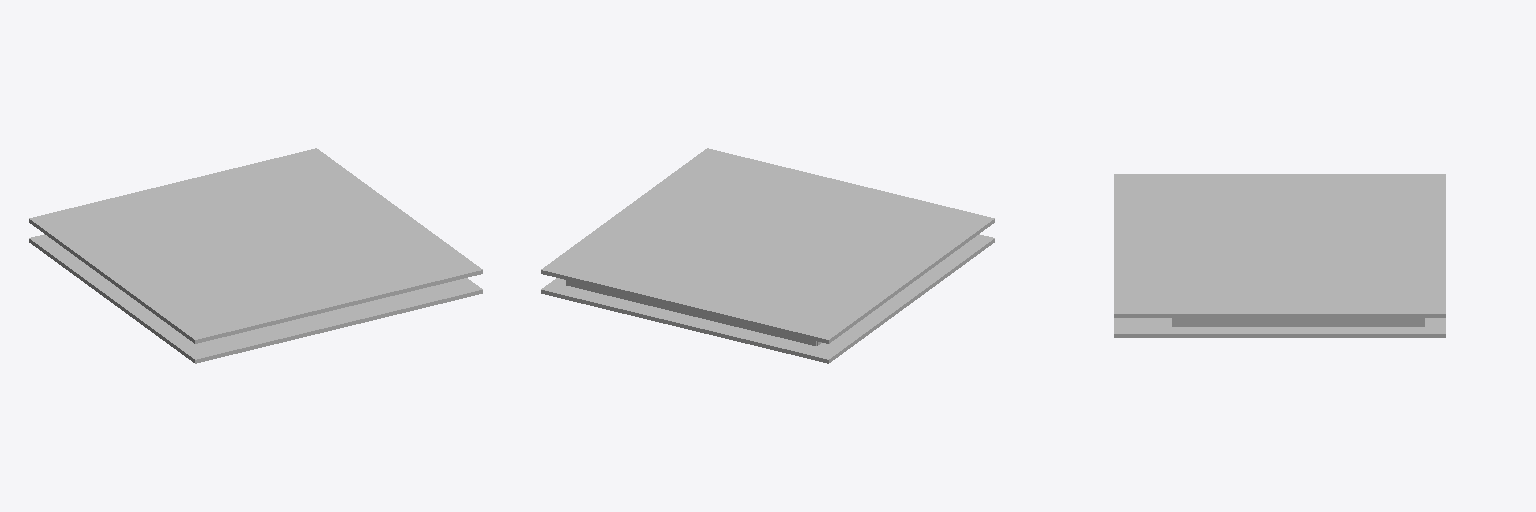
Rendered from Casa.obj.
3 renders of one model, left to right at view 1: azimuth 30°, elevation 25°; view 2: azimuth 150°, elevation 25°; view 3: azimuth 270°, elevation 25°, orthographic.
Parts seen in each view (by area): view 1: Plane.001, Plane; view 2: Plane.001, Plane, Cube.034_Cube.035; view 3: Plane.001, Plane, Cube.017_Cube.018.
Boxes of the visible parts, x1=… form: Plane.001: x1=29, y1=148, x2=482, y2=343; Plane: x1=29, y1=234, x2=482, y2=363; Plane.001: x1=541, y1=148, x2=994, y2=343; Plane: x1=541, y1=234, x2=994, y2=363; Cube.034_Cube.035: x1=566, y1=280, x2=816, y2=345; Plane.001: x1=1114, y1=174, x2=1445, y2=317; Plane: x1=1114, y1=318, x2=1445, y2=337; Cube.017_Cube.018: x1=1175, y1=318, x2=1421, y2=326.
Bounding box in the file's own units: 360 × 28.34 × 360.